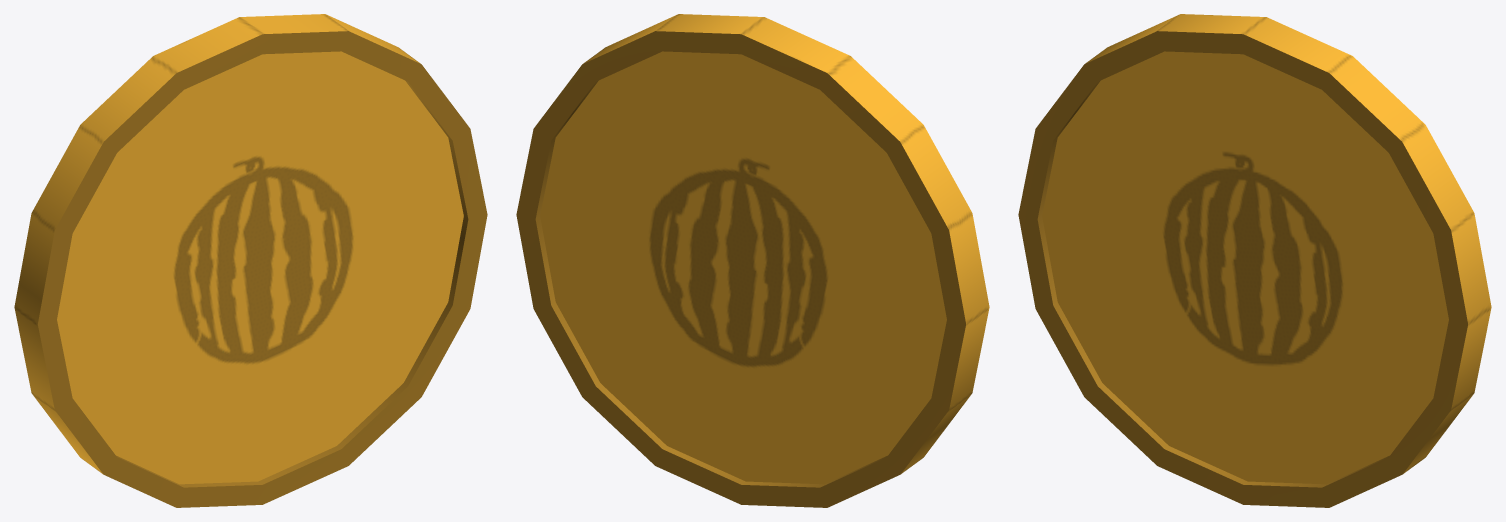
File: coin.fbx
The picture shows the model from 3 angles, left to right: view 1: azimuth 30°, elevation 25°; view 2: azimuth 150°, elevation 25°; view 3: azimuth 330°, elevation 25°; orthographic projection.
Parts seen in each view (by area): view 1: Cylinder; view 2: Cylinder; view 3: Cylinder.
Boxes of the visible parts, x1,y1,x2,y2 form: Cylinder: [14, 14, 487, 507]; Cylinder: [516, 14, 989, 507]; Cylinder: [1018, 14, 1491, 507].
Size of the model in its own units: 200 by 18.01 by 200.
